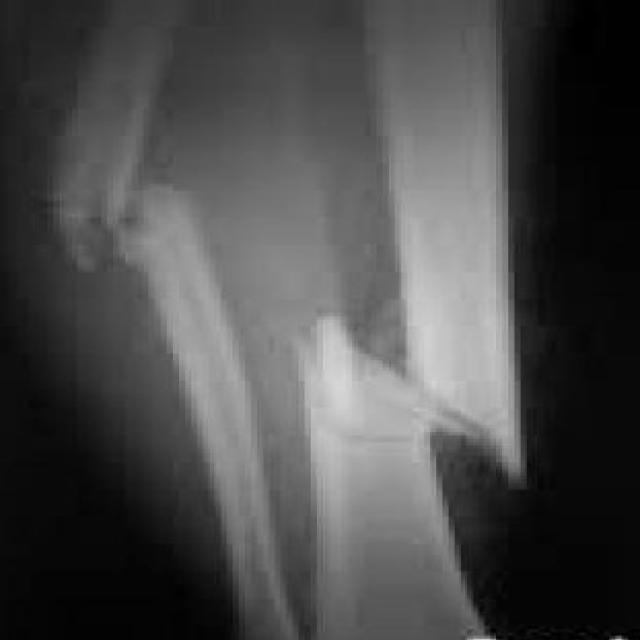comminuted: (270, 294, 552, 492)
